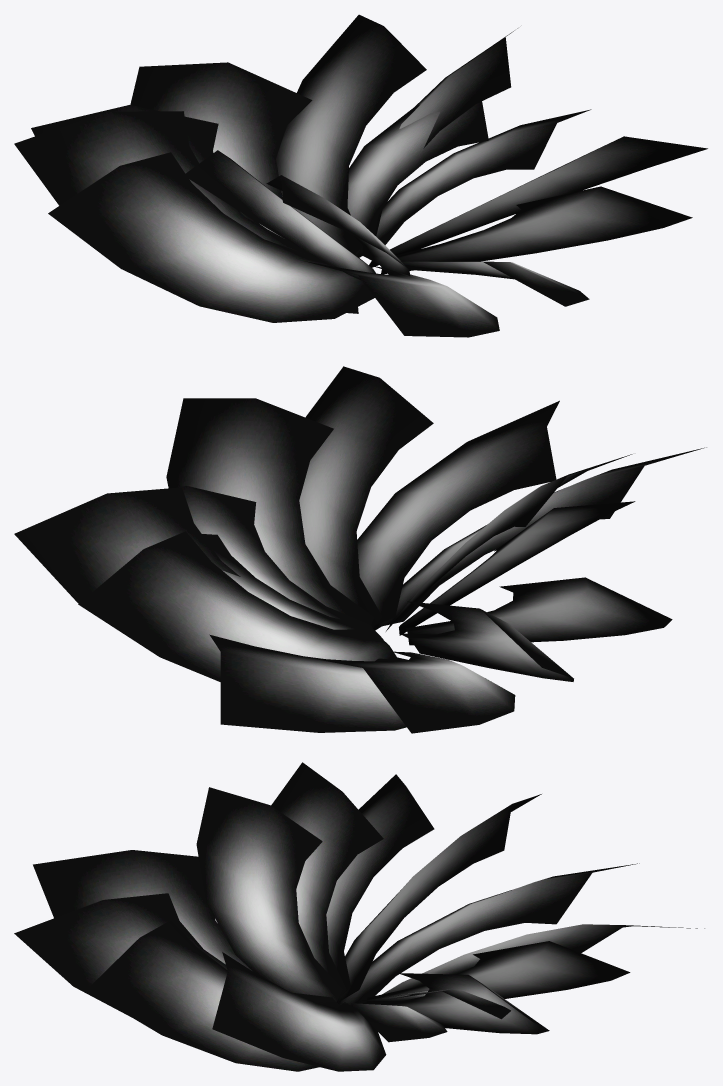
Rendered from vfx_kurp_0251.dae.
The picture shows the model from 3 angles, top to bottom: view 1: azimuth 30°, elevation 25°; view 2: azimuth 150°, elevation 25°; view 3: azimuth 270°, elevation 25°; orthographic projection. The views are drawn at different scales.
Visible parts, largest first — view 1: vfx_kurp_0251; view 2: vfx_kurp_0251; view 3: vfx_kurp_0251.
Boxes of the visible parts, x1,y1,x2,y2 form: vfx_kurp_0251: [14, 14, 707, 337]; vfx_kurp_0251: [14, 366, 706, 733]; vfx_kurp_0251: [14, 762, 704, 1071].
Size of the model in its own units: 8.71 by 10.03 by 2.88.
Materials: 1 (1 with a texture image).
